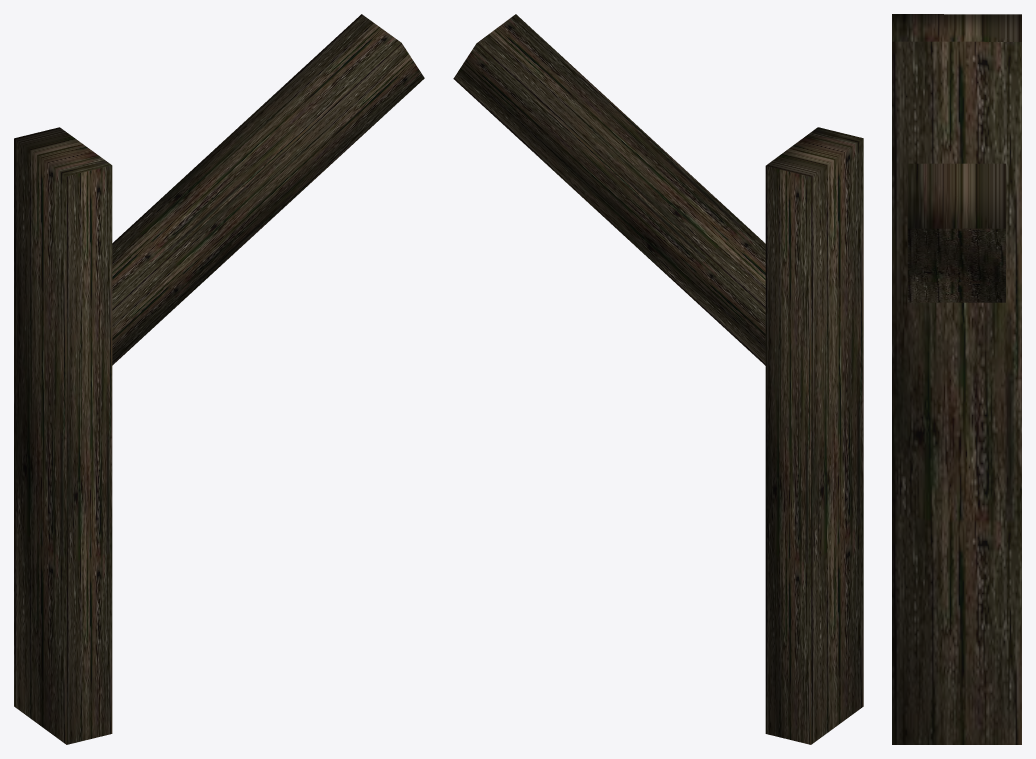
File: OC_DUNGEON_PLANKS.glb
The picture shows the model from 3 angles, left to right: view 1: azimuth 30°, elevation 25°; view 2: azimuth 150°, elevation 25°; view 3: azimuth 270°, elevation 25°; orthographic projection. The views are drawn at different scales.
Visible parts, largest first — view 1: Mesh; view 2: Mesh; view 3: Mesh.
Part boxes in pixels (<box>): Mesh: <box>14,14,424,744</box>; Mesh: <box>453,14,863,744</box>; Mesh: <box>892,14,1021,744</box>.
Size of the model in its own units: 3.2 by 5.15 by 0.7979.
Materials: 1 (1 with a texture image).
